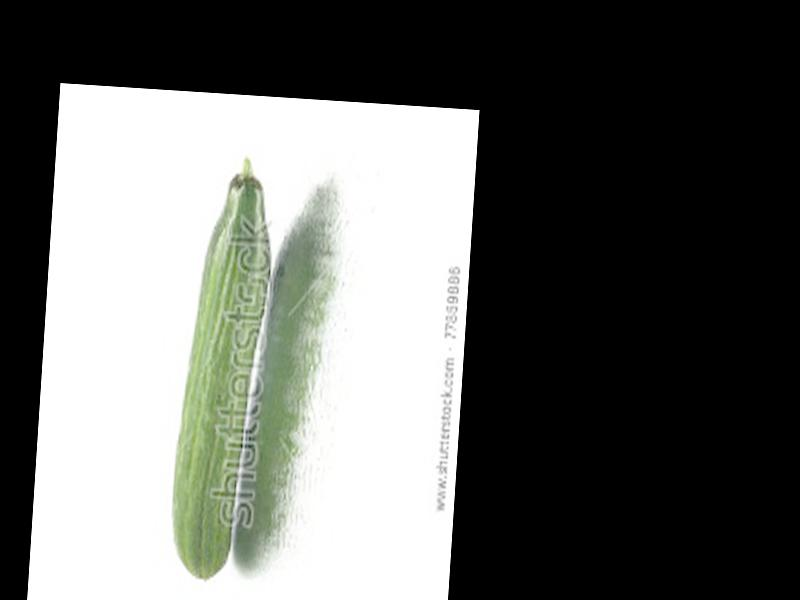Cucumber: (166, 155, 278, 579)
